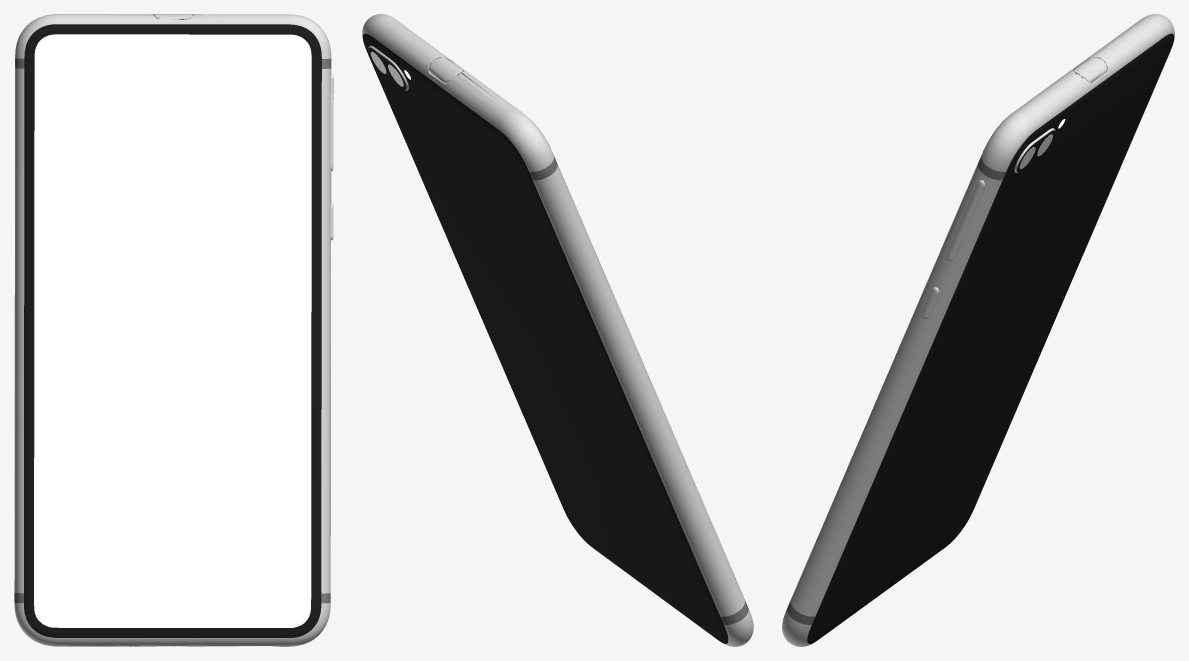
Rendered from phone.glb.
The picture shows the model from 3 angles, left to right: view 1: azimuth 30°, elevation 25°; view 2: azimuth 150°, elevation 25°; view 3: azimuth 270°, elevation 25°; orthographic projection. The views are drawn at different scales.
Visible parts, largest first — view 1: Object_11, Object_4; view 2: Object_4; view 3: Object_4.
Boxes of the visible parts, x1,y1,x2,y2 form: Object_11: [34, 34, 311, 627]; Object_4: [14, 14, 333, 646]; Object_4: [362, 14, 753, 646]; Object_4: [782, 14, 1174, 646].
Bounding box in the file's own units: 1.21 × 1.86 × 1.13.
2 materials, 2 textured.
